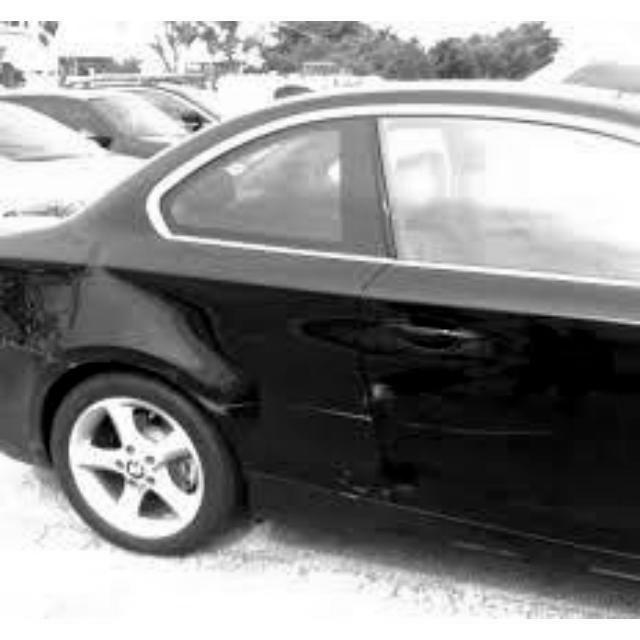quaterpanel-dent: (47, 245, 361, 471)
